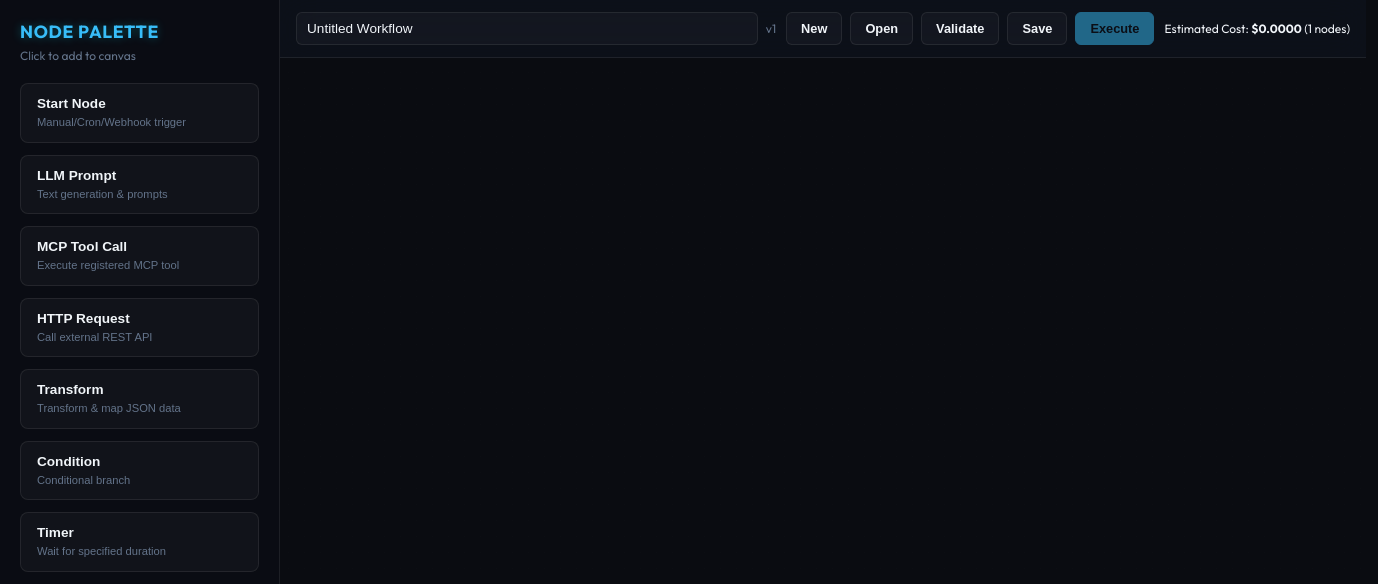
Test case: WorkflowBuilder Component › displays validation errors when validation fails
What coordinates should you click on to do the following:
click the button "Validate"
I would click on:
 (960, 28)
Its box is 921,12 -> 1000,45.
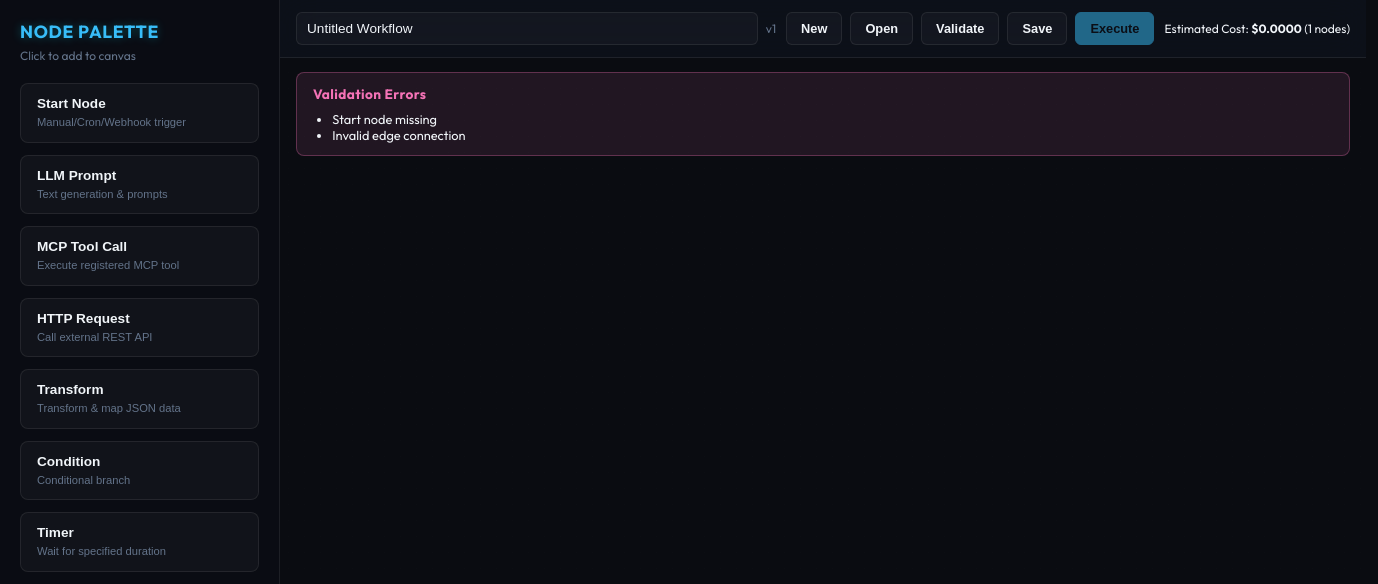
Expected: the list item "Start node missing" is shown, 332,111 -> 437,127
Expected: the list item "Invalid edge connection" is shown, 332,127 -> 466,143
